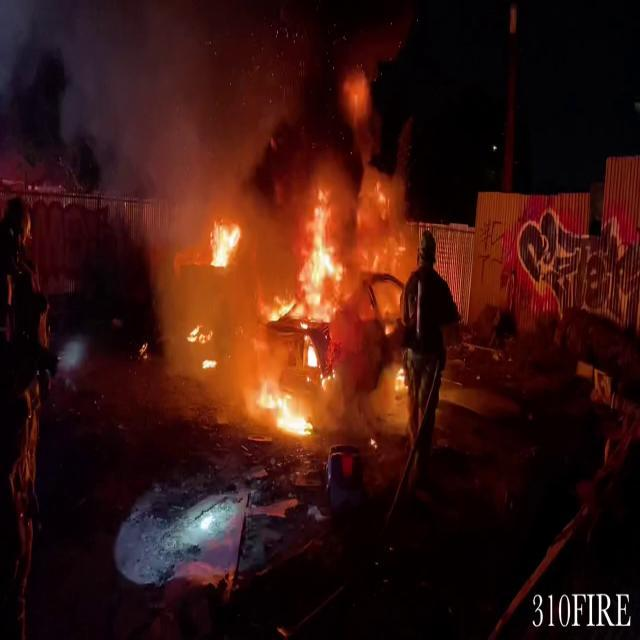Fire: (184, 200, 348, 432), (204, 213, 244, 272)
Smoke: (74, 4, 350, 432), (296, 160, 411, 317)
